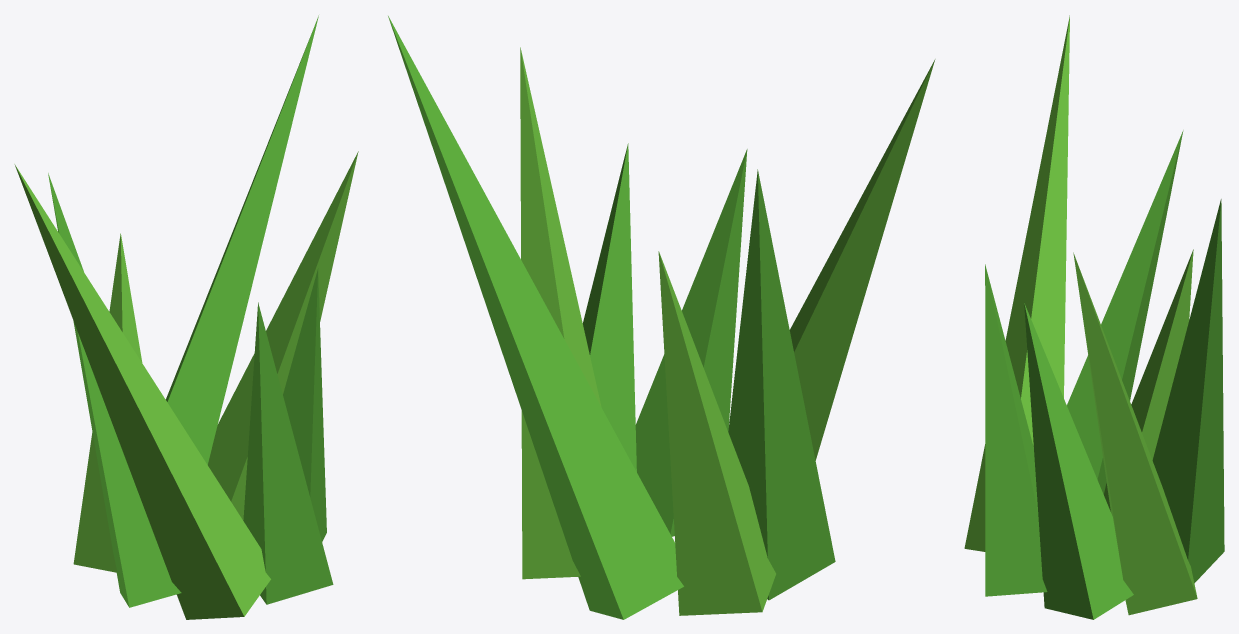
File: GrassTuft.fbx
3 renders of one model, left to right at view 1: azimuth 30°, elevation 25°; view 2: azimuth 150°, elevation 25°; view 3: azimuth 270°, elevation 25°, orthographic. The views are drawn at different scales.
Visible parts, largest first — view 1: GrassTuft; view 2: GrassTuft; view 3: GrassTuft.
Boxes of the visible parts, bbox=[...] form: GrassTuft: bbox=[14, 15, 358, 619]; GrassTuft: bbox=[388, 16, 935, 619]; GrassTuft: bbox=[964, 15, 1224, 619].
Bounding box in the file's own units: 1.04 × 1.24 × 0.6221.
1 material, 1 textured.
